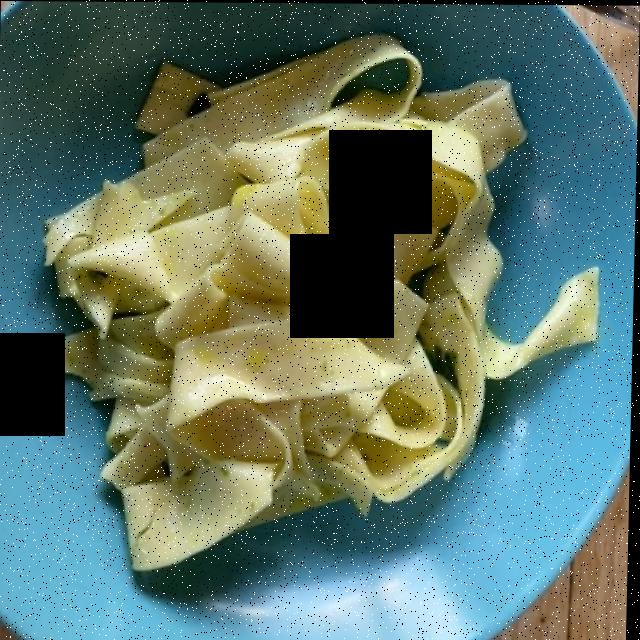pasta-linguini-parpadelle-tagliatelle: (52, 57, 503, 569)
